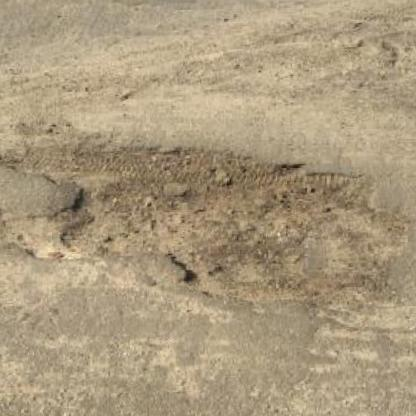pothole: (0, 136, 398, 290)
